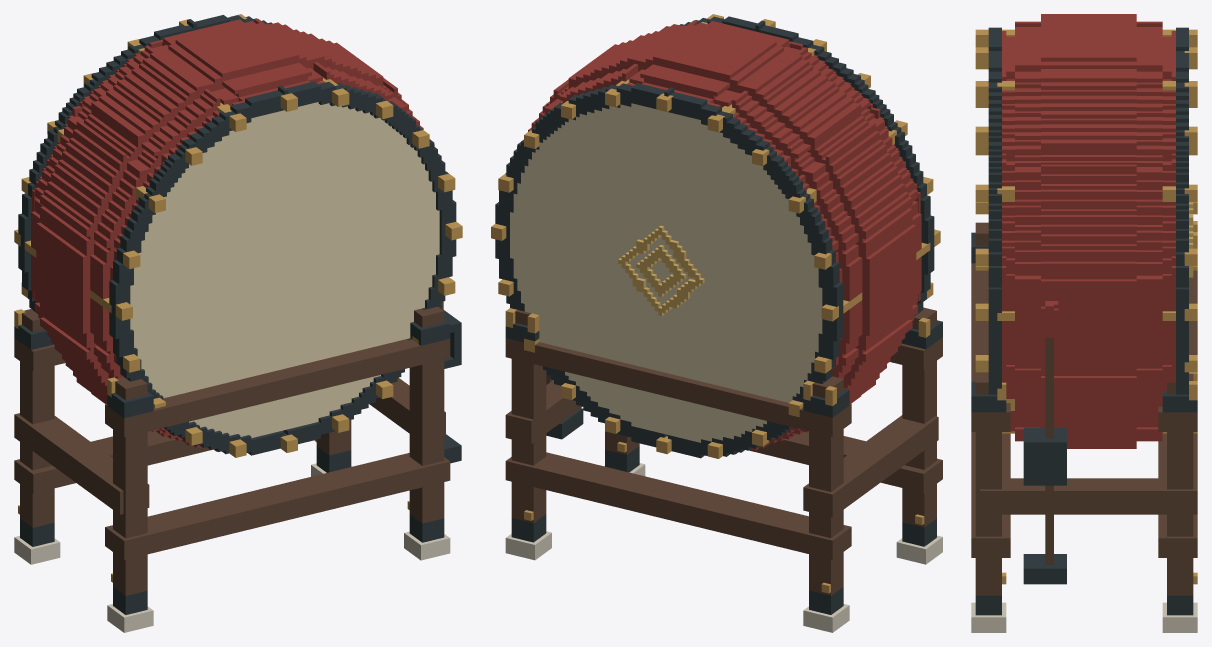
Rendered from LIFE-175.glb.
3 views of the same model, side by side, from view 1: azimuth 30°, elevation 25°; view 2: azimuth 150°, elevation 25°; view 3: azimuth 270°, elevation 25° (orthographic). The views are drawn at different scales.
Visible parts, largest first — view 1: 打击乐器鼓体; view 2: 打击乐器鼓体; view 3: 打击乐器鼓体.
Boxes of the visible parts, x1,y1,x2,y2 form: 打击乐器鼓体: (14, 14, 462, 632); 打击乐器鼓体: (491, 14, 942, 632); 打击乐器鼓体: (971, 14, 1197, 632).
Bounding box in the file's own units: 1.01 × 1.31 × 0.52.
Materials: 7 (7 with a texture image).
